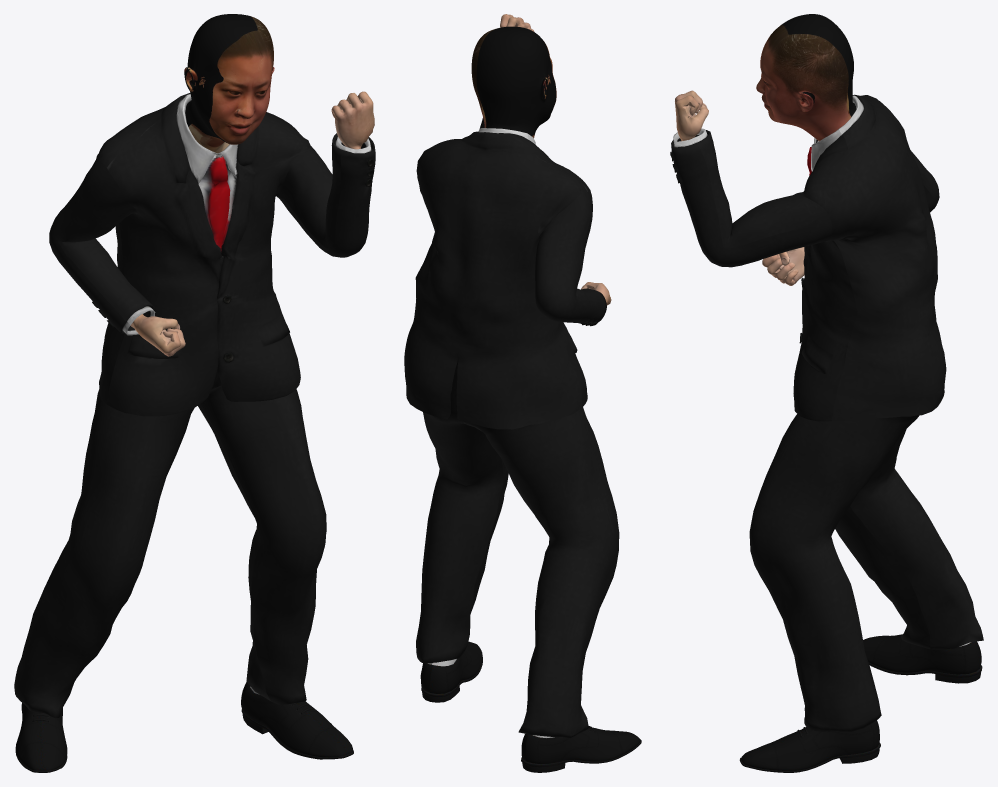
File: guts_shima2.glb
The picture shows the model from 3 angles, left to right: view 1: azimuth 30°, elevation 25°; view 2: azimuth 150°, elevation 25°; view 3: azimuth 270°, elevation 25°; orthographic projection. The views are drawn at different scales.
Visible parts, largest first — view 1: shima; view 2: shima; view 3: shima.
Boxes of the visible parts, x1,y1,x2,y2 form: shima: (14, 14, 375, 772); shima: (404, 14, 641, 772); shima: (670, 14, 983, 772).
Size of the model in its own units: 0.6304 by 1.67 by 0.6676.
Materials: 4 (4 with a texture image).
